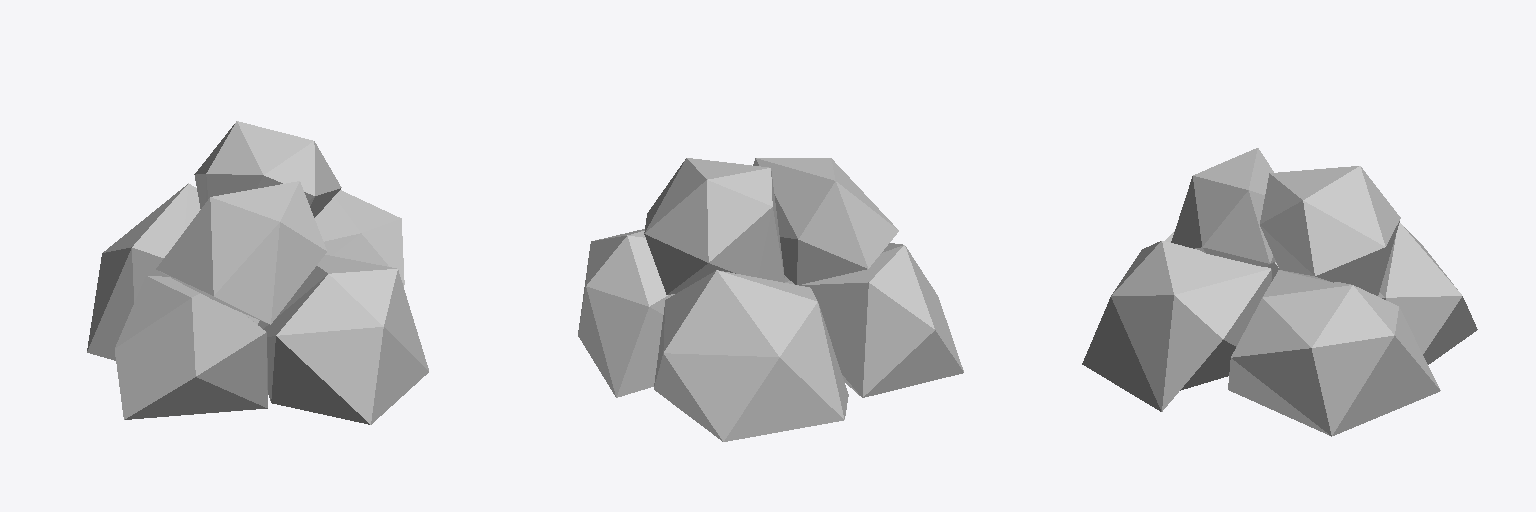
Rendered from sulfur_item.obj.
The picture shows the model from 3 angles: view 1: azimuth 30°, elevation 25°; view 2: azimuth 150°, elevation 25°; view 3: azimuth 270°, elevation 25°; orthographic projection.
Visible parts, largest first — view 1: sulfur_sulfur_item; view 2: sulfur_sulfur_item; view 3: sulfur_sulfur_item.
Boxes of the visible parts, <box> form: sulfur_sulfur_item: <box>87,121,428,424</box>; sulfur_sulfur_item: <box>578,158,963,441</box>; sulfur_sulfur_item: <box>1082,148,1477,436</box>.
Bounding box in the file's own units: 0.2413 × 0.1412 × 0.252.